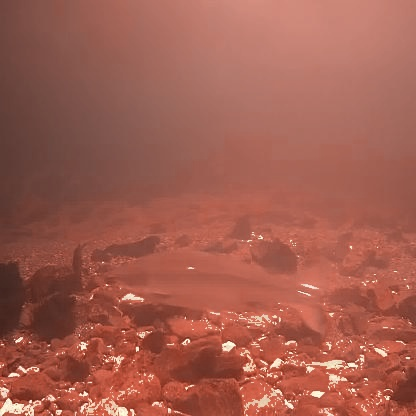salmon: (105, 240, 331, 339)
